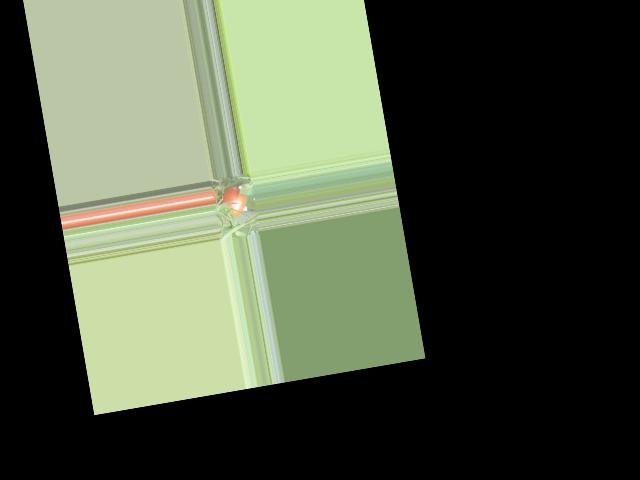tomato: (218, 184, 249, 218)
